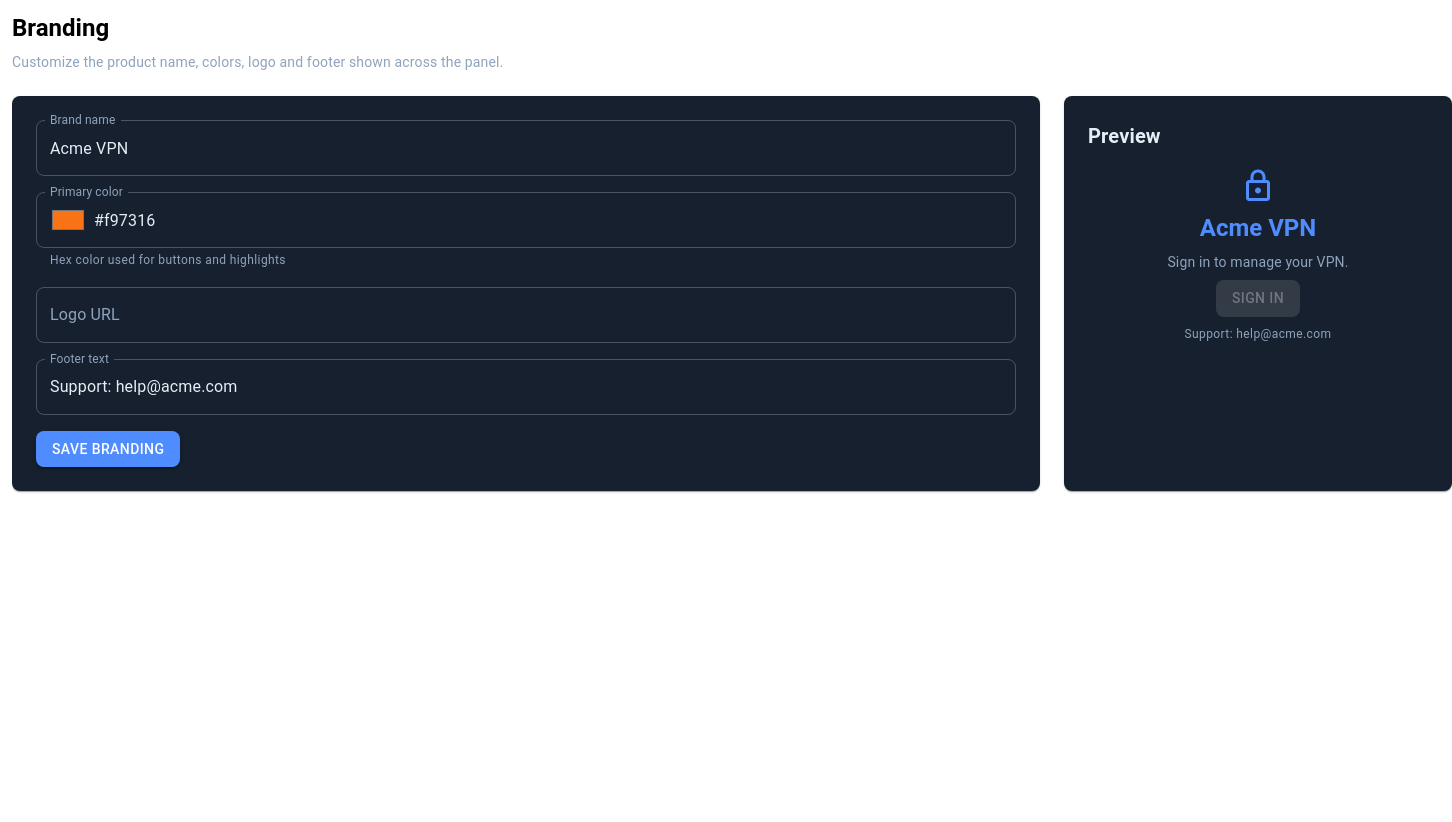
Test: BrandingPage › saves all four brand settings
Replace the text in the field labelled "Brand name" with "New Name" at {"x": 526, "y": 148}, box [36, 120, 1016, 176]
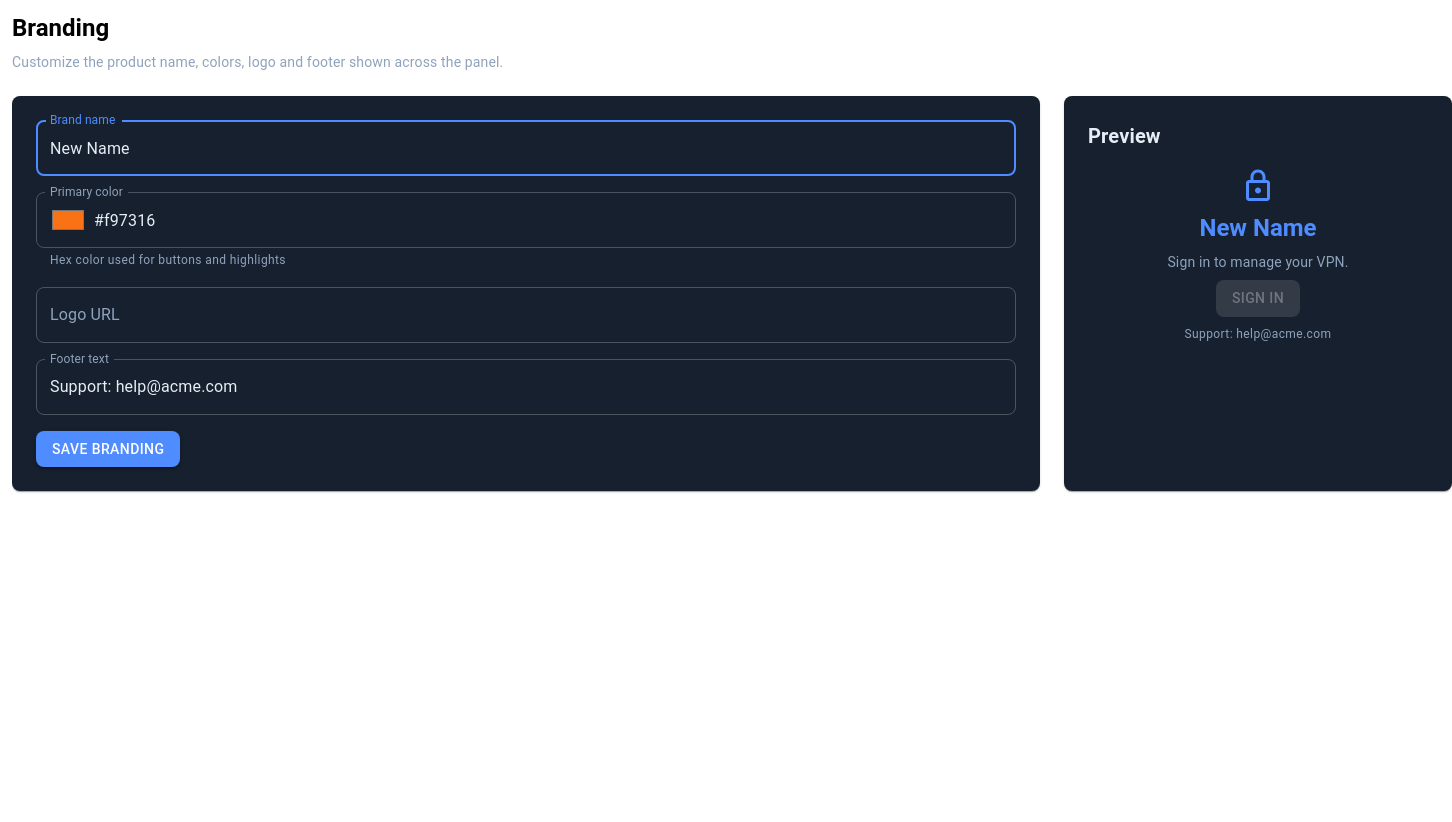
Click the button "Save branding" at {"x": 108, "y": 449}, box [36, 431, 180, 467]
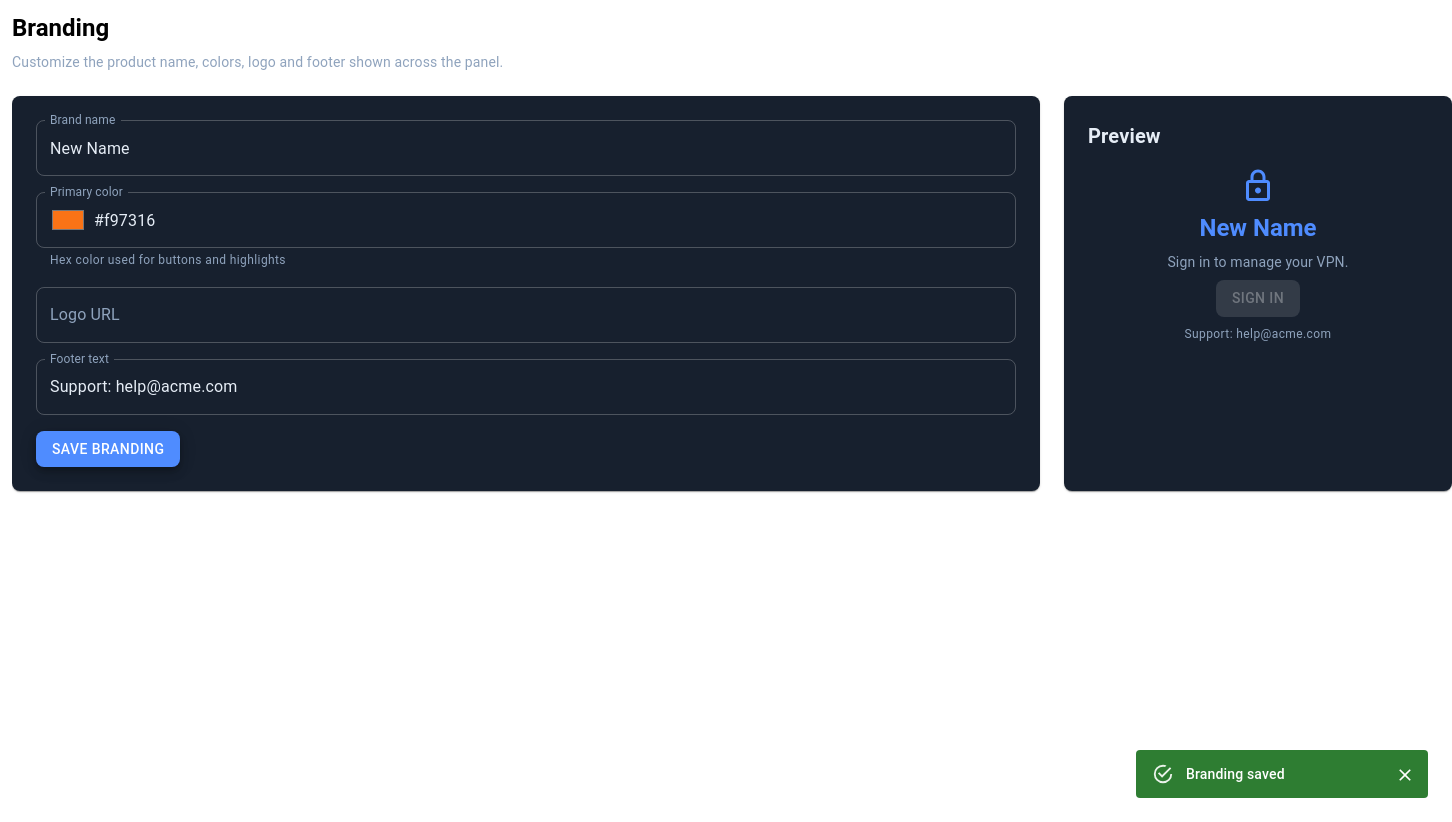
Expected: the text "Branding saved" is shown, [1186, 766, 1285, 782]
